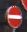No entry: (5, 5, 22, 27)
